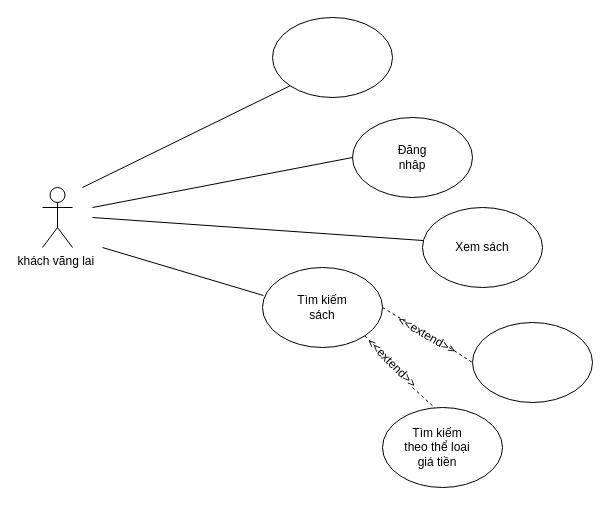
Some shapes in this 610 by 505 pixel diagram are drawn without their labels. Here are the shapes that lost their labels. From the top down, the centre of each, then its label:
At point 332,57: "Đăng ký".
At point 532,362: "Tìm kiếm theo tên".
